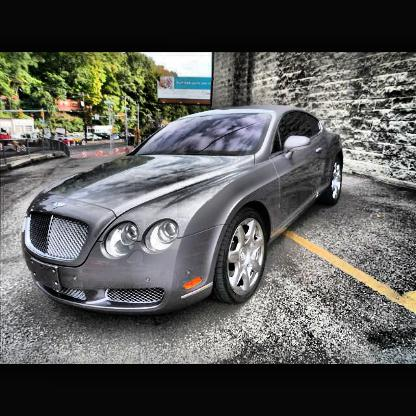Bentley Continental GT Coupe 2007: (19, 104, 347, 323)
